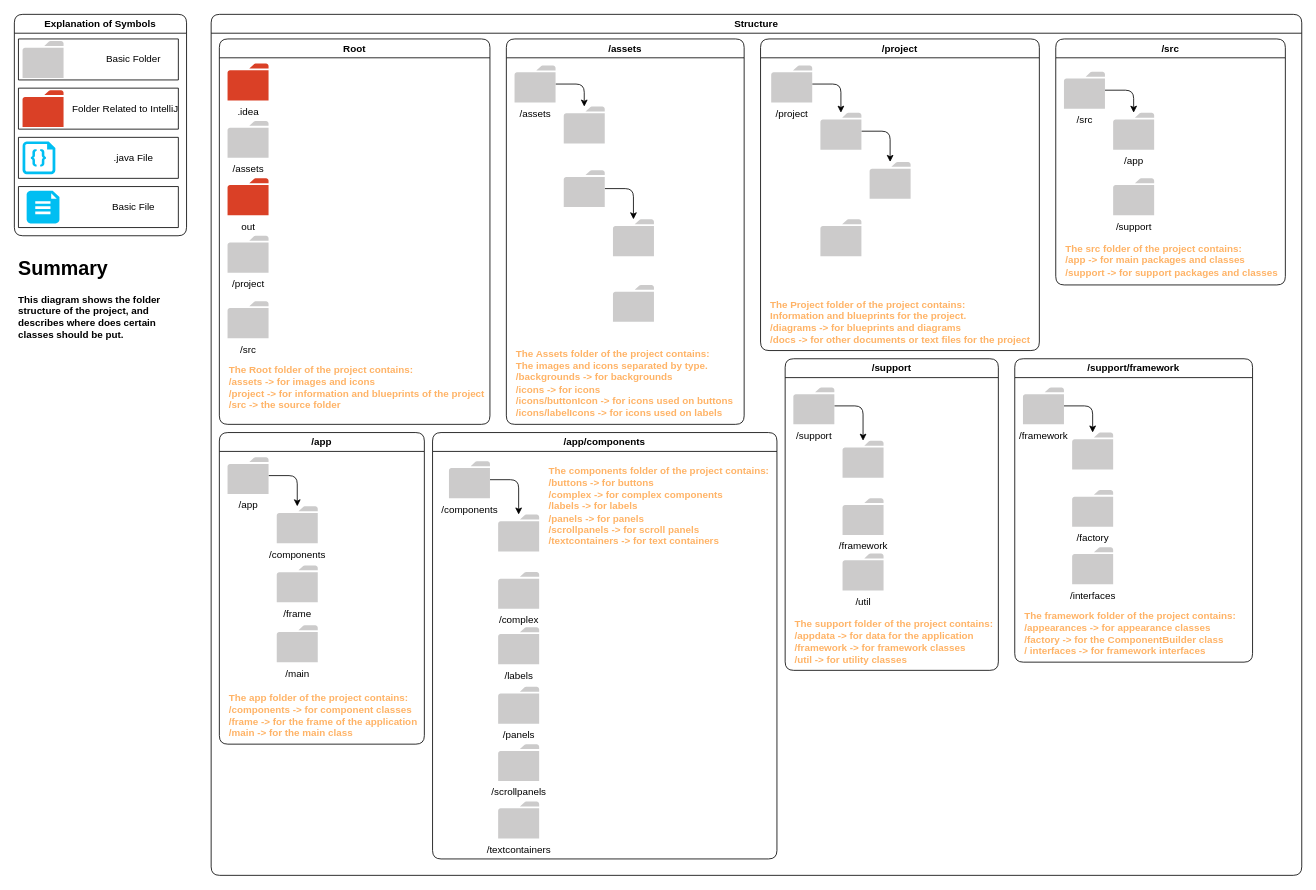
The diagram is 1316 pixels wide and 890 high, and some of its shapes have lost their labels. The centre of each missing label's shape, as x and y in pixels:
"/appdata" belongs at [862,458].
"/appearances" belongs at [1092,450].
"/backgrounds" belongs at [583,124].
"/buttonIcons" belongs at [633,237].
"/buttons" belongs at [518,532].
"/docs" belongs at [840,237].
"/icons" belongs at [583,188].
"/labelIcons" belongs at [633,303].
"/structure" belongs at [889,180].
"diagrams" belongs at [840,130].
